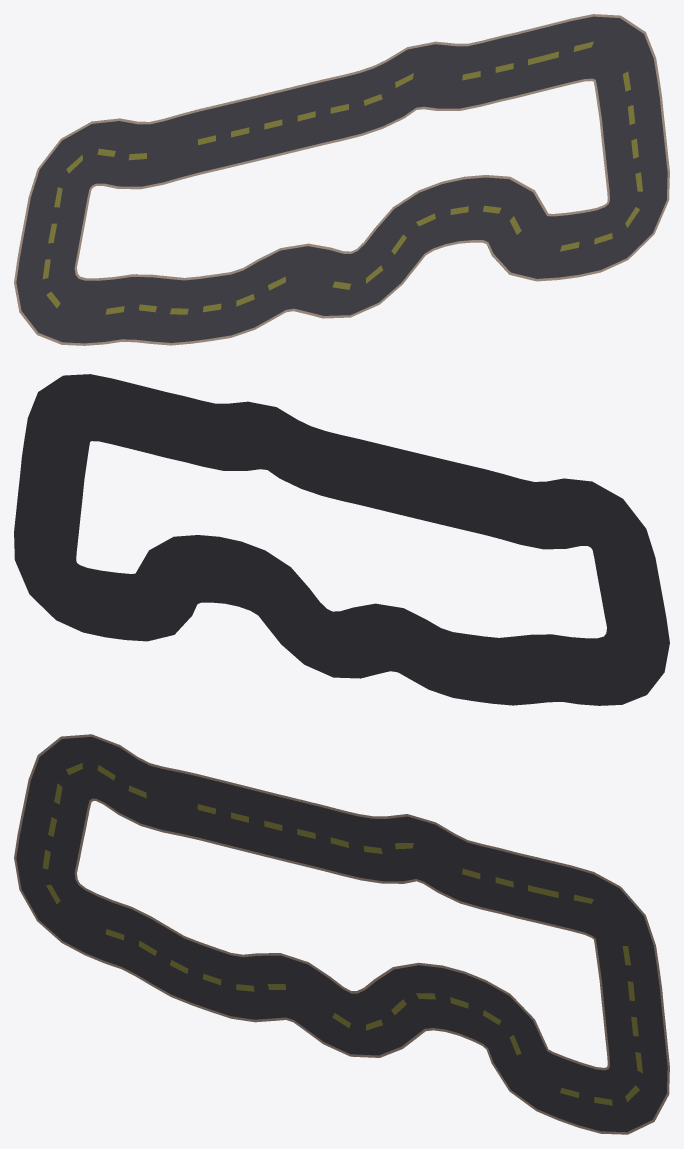
The model's file is track.obj.
3 renders of one model, top to bottom at view 1: azimuth 30°, elevation 25°; view 2: azimuth 150°, elevation 25°; view 3: azimuth 330°, elevation 25°, orthographic.
Size of the model in its own units: 11.12 by 4.46 by 0.002.
